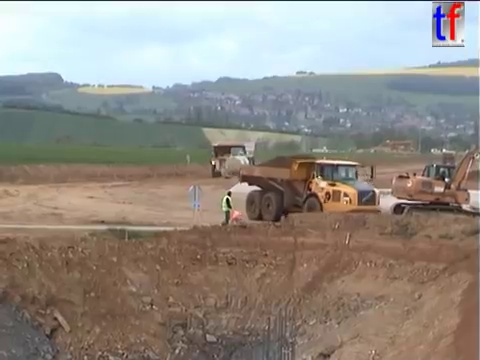excavator: (389, 145, 480, 230)
truck: (237, 154, 383, 229), (207, 141, 250, 179), (219, 151, 257, 179), (440, 149, 456, 167)
worker: (219, 188, 236, 229)
